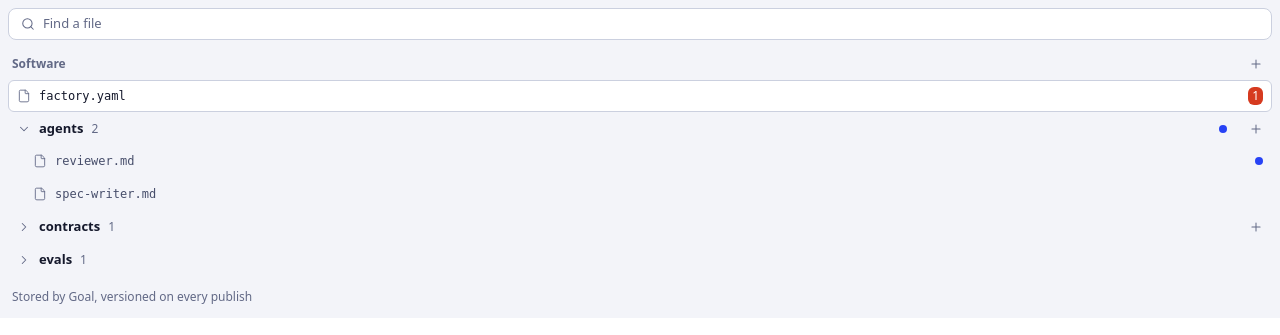
it: FileTree › filters the files by "Find a file" and lists the matches by their full path
Type "SPEC" into the search field labelled "Find a file" at x=651, y=24, box [43,14,1259,34]
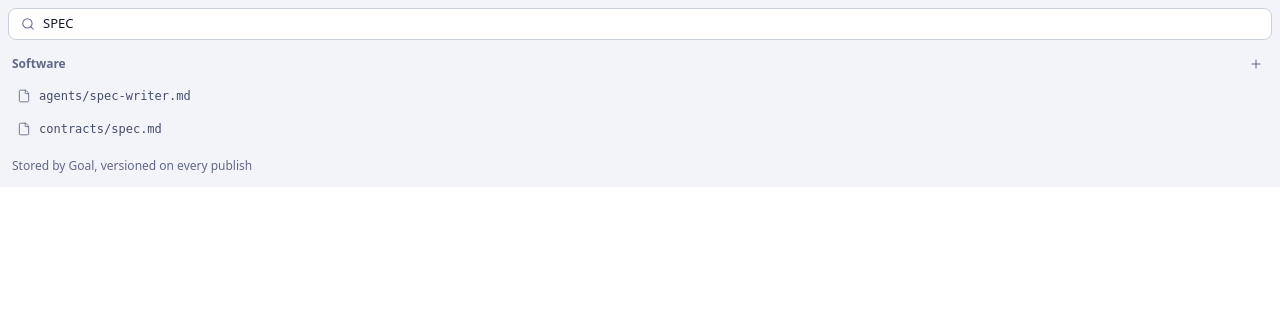
Result: the button "agents/spec-writer.md" is shown at [8,80,1272,112]
Result: the button "contracts/spec.md" is shown at [8,113,1272,145]
Result: the button "reviewer" is gone
